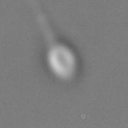normal: (22, 1, 56, 41)
